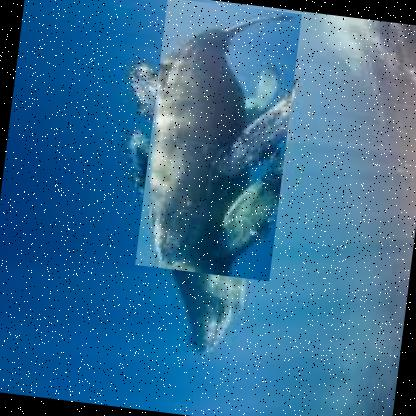blue_whale: (93, 43, 291, 352), (133, 0, 302, 280)
